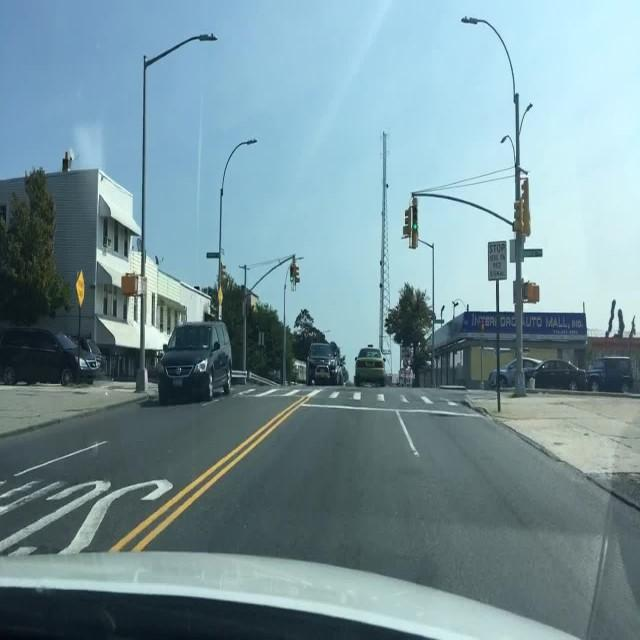normal: (302, 318, 399, 397), (159, 322, 235, 406), (0, 327, 99, 388), (530, 358, 598, 390), (487, 357, 543, 387)
